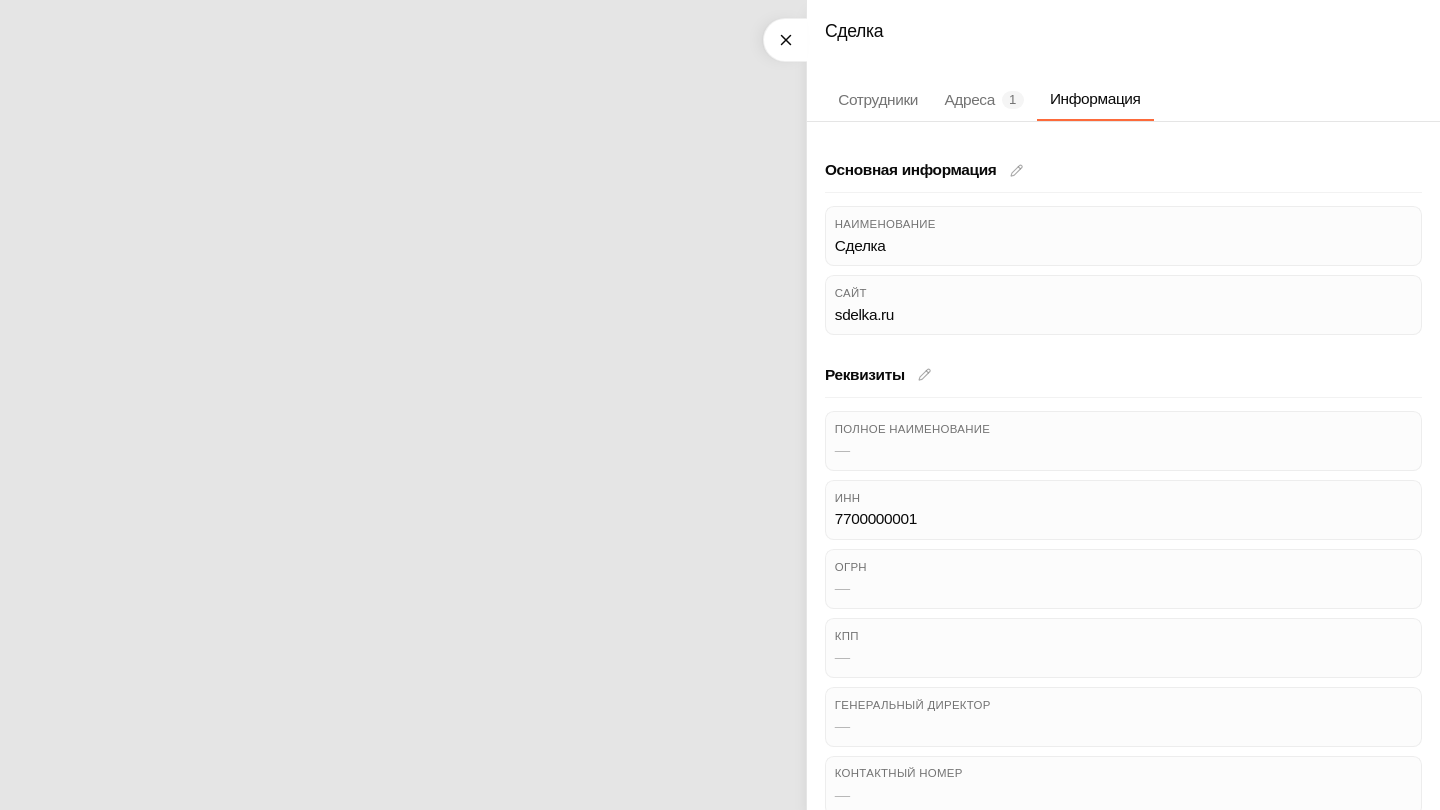
Test: CompanyDrawer — Основная информация › Save is disabled when no fields have been edited
Check: the heading with test id "drawer-title" reads "Сделка", box [825,21,883,41]
Click the button named "Редактировать основную информацию": [1016, 170] box [1003,157,1029,183]
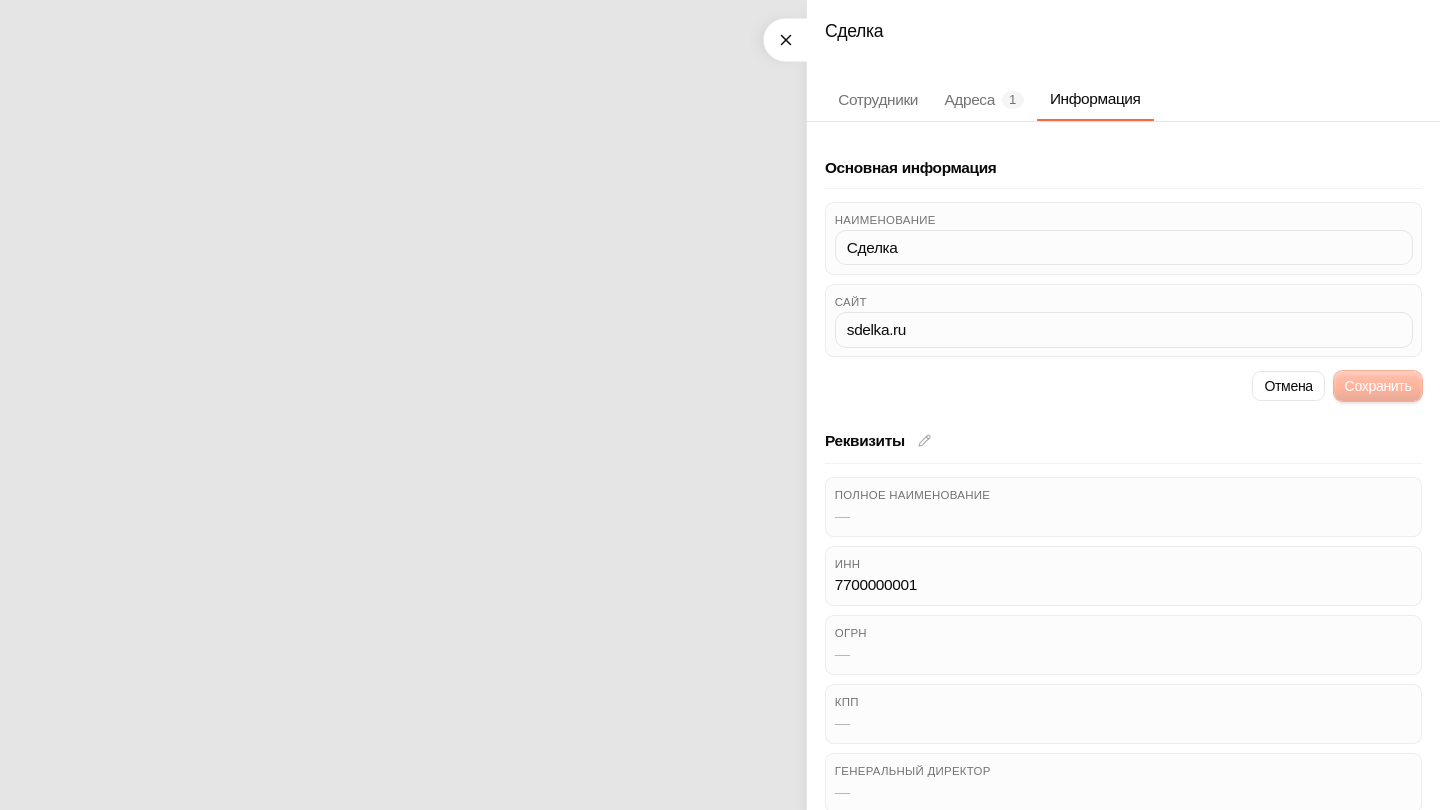
Check: the button "Сохранить" is disabled, box [1334,370,1422,401]
